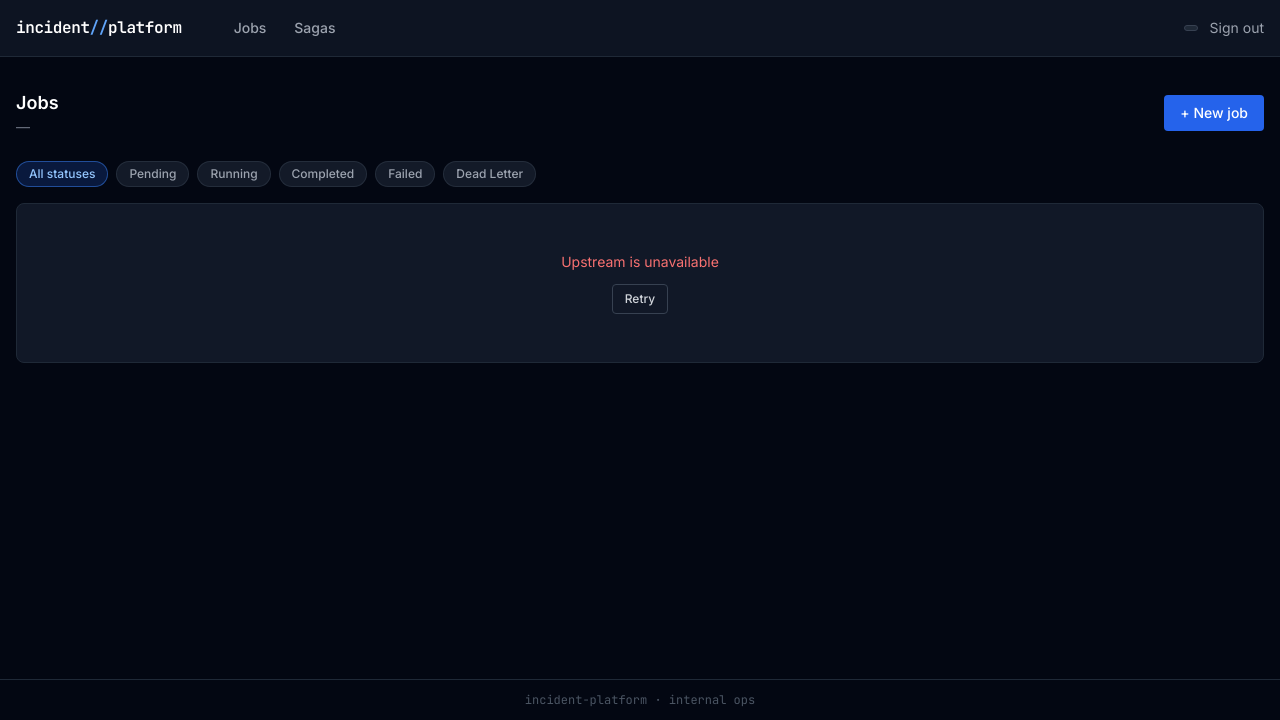
Test case: a failed list load renders an error state, never an empty list › DashboardPage: Retry re-runs the request and shows the rows
Expected: the message "Upstream is unavailable Retry" is shown, [561,253,719,314]
What coordinates should you click on to do the following:
click the button "Retry"
I would click on:
 (640, 299)
Its box is [612,284,668,314].
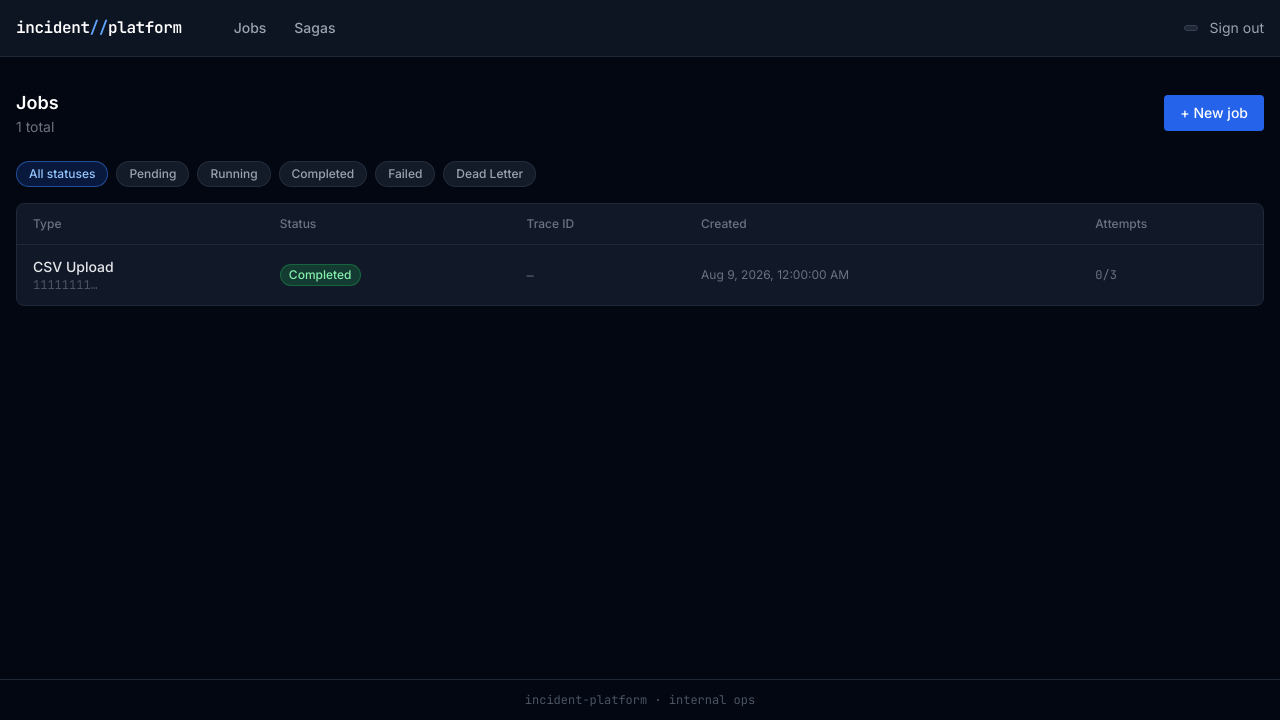
Now the message "Upstream is unavailable Retry" is gone
Now the text "CSV Upload" is shown, box [33,258,114,275]
